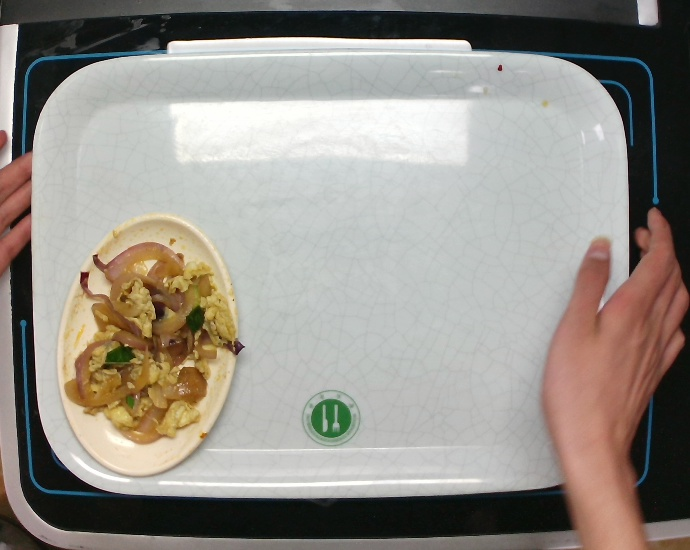JYsf-Tuo_Yuan_Wan: (50, 211, 242, 479)
